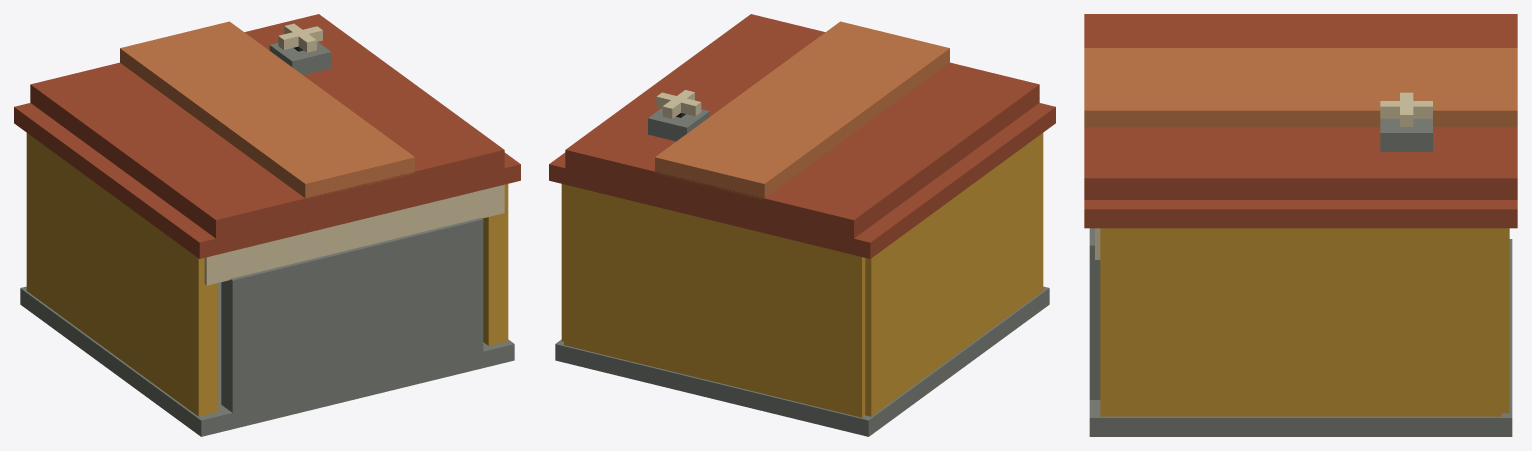
The model's file is depot.gltf.
3 renders of one model, left to right at view 1: azimuth 30°, elevation 25°; view 2: azimuth 150°, elevation 25°; view 3: azimuth 270°, elevation 25°, orthographic. The views are drawn at different scales.
Parts seen in each view (by area): view 1: doorPanel, side-1, ridge, roofStep-1, roofStep1, roofBase, foundation, lintel, side1, ventHousing, ventBladeX; view 2: back, side-1, ridge, roofStep-1, roofStep1, roofBase, foundation, ventHousing, ventBladeX; view 3: side1, ridge, roofStep1, roofStep-1, roofBase, foundation, doorPanel, ventHousing, back, ventBladeZ, ventBladeX.
Boxes of the visible parts, <box> form: doorPanel: <box>221,218,483,413</box>; side-1: <box>26,133,218,416</box>; ridge: <box>120,21,414,200</box>; roofStep-1: <box>30,62,366,240</box>; roofStep1: <box>244,14,504,205</box>; roofBase: <box>14,103,520,258</box>; foundation: <box>20,282,514,436</box>; lintel: <box>204,184,504,285</box>; side1: <box>482,184,508,345</box>; ventHousing: <box>269,42,331,75</box>; ventBladeX: <box>278,26,322,49</box>; back: <box>564,184,865,417</box>; side-1: <box>865,133,1043,416</box>; ridge: <box>655,21,949,200</box>; roofStep-1: <box>703,62,1039,240</box>; roofStep1: <box>565,14,825,206</box>; roofBase: <box>549,103,1055,258</box>; foundation: <box>555,286,1049,436</box>; ventHousing: <box>648,108,709,141</box>; ventBladeX: <box>656,92,701,116</box>; side1: <box>1100,228,1501,416</box>; ridge: <box>1084,48,1517,127</box>; roofStep1: <box>1084,127,1517,199</box>; roofStep-1: <box>1084,14,1517,47</box>; roofBase: <box>1084,200,1517,228</box>; foundation: <box>1089,239,1512,436</box>; doorPanel: <box>1089,228,1100,399</box>; ventHousing: <box>1380,118,1432,151</box>; back: <box>1501,228,1509,413</box>; ventBladeZ: <box>1380,101,1432,118</box>; ventBladeX: <box>1400,92,1413,126</box>.
Bounding box in the file's own units: 4.1 × 3.01 × 4.1.
